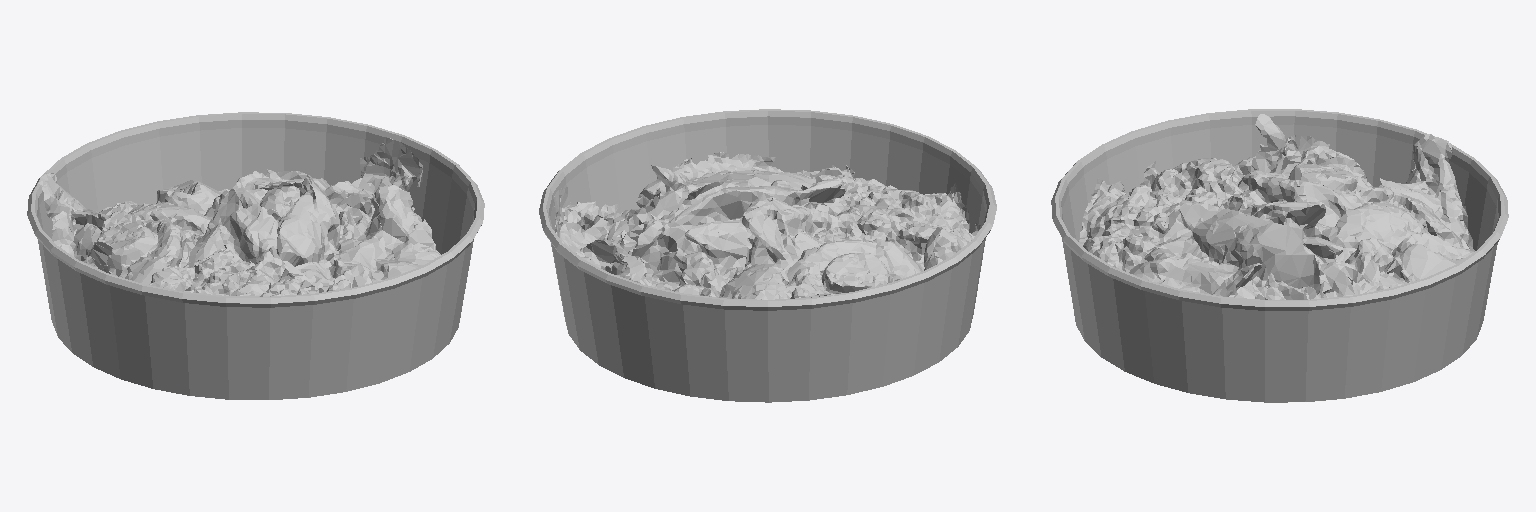
File: salad.obj
The picture shows the model from 3 angles: view 1: azimuth 30°, elevation 25°; view 2: azimuth 150°, elevation 25°; view 3: azimuth 270°, elevation 25°; orthographic projection.
Parts seen in each view (by area): view 1: Circle; view 2: Circle; view 3: Circle.
Part boxes in pixels (left/top/right/bottom): Circle: left=27, top=112, right=484, bottom=399; Circle: left=539, top=109, right=996, bottom=402; Circle: left=1051, top=109, right=1508, bottom=402.
Size of the model in its own units: 0.3826 by 0.1136 by 0.3826.